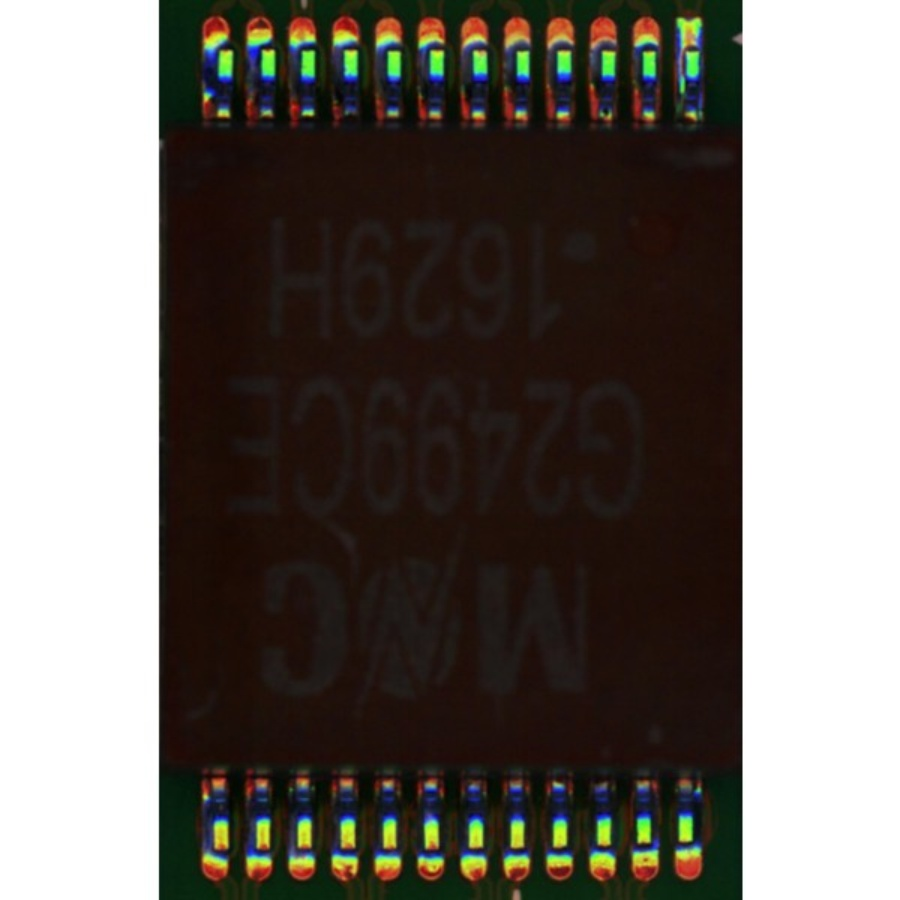Bad_podu: (686, 34, 699, 60)
Bad_qiaojiao: (677, 51, 686, 107)
